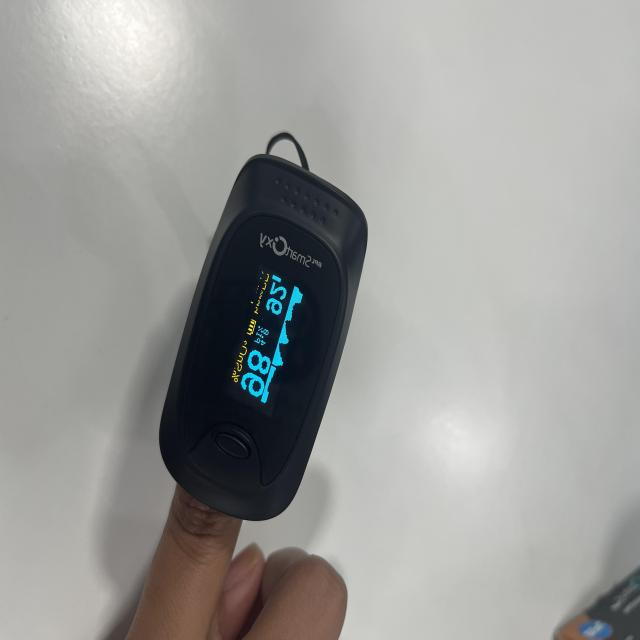spo2: (158, 153, 369, 524)
